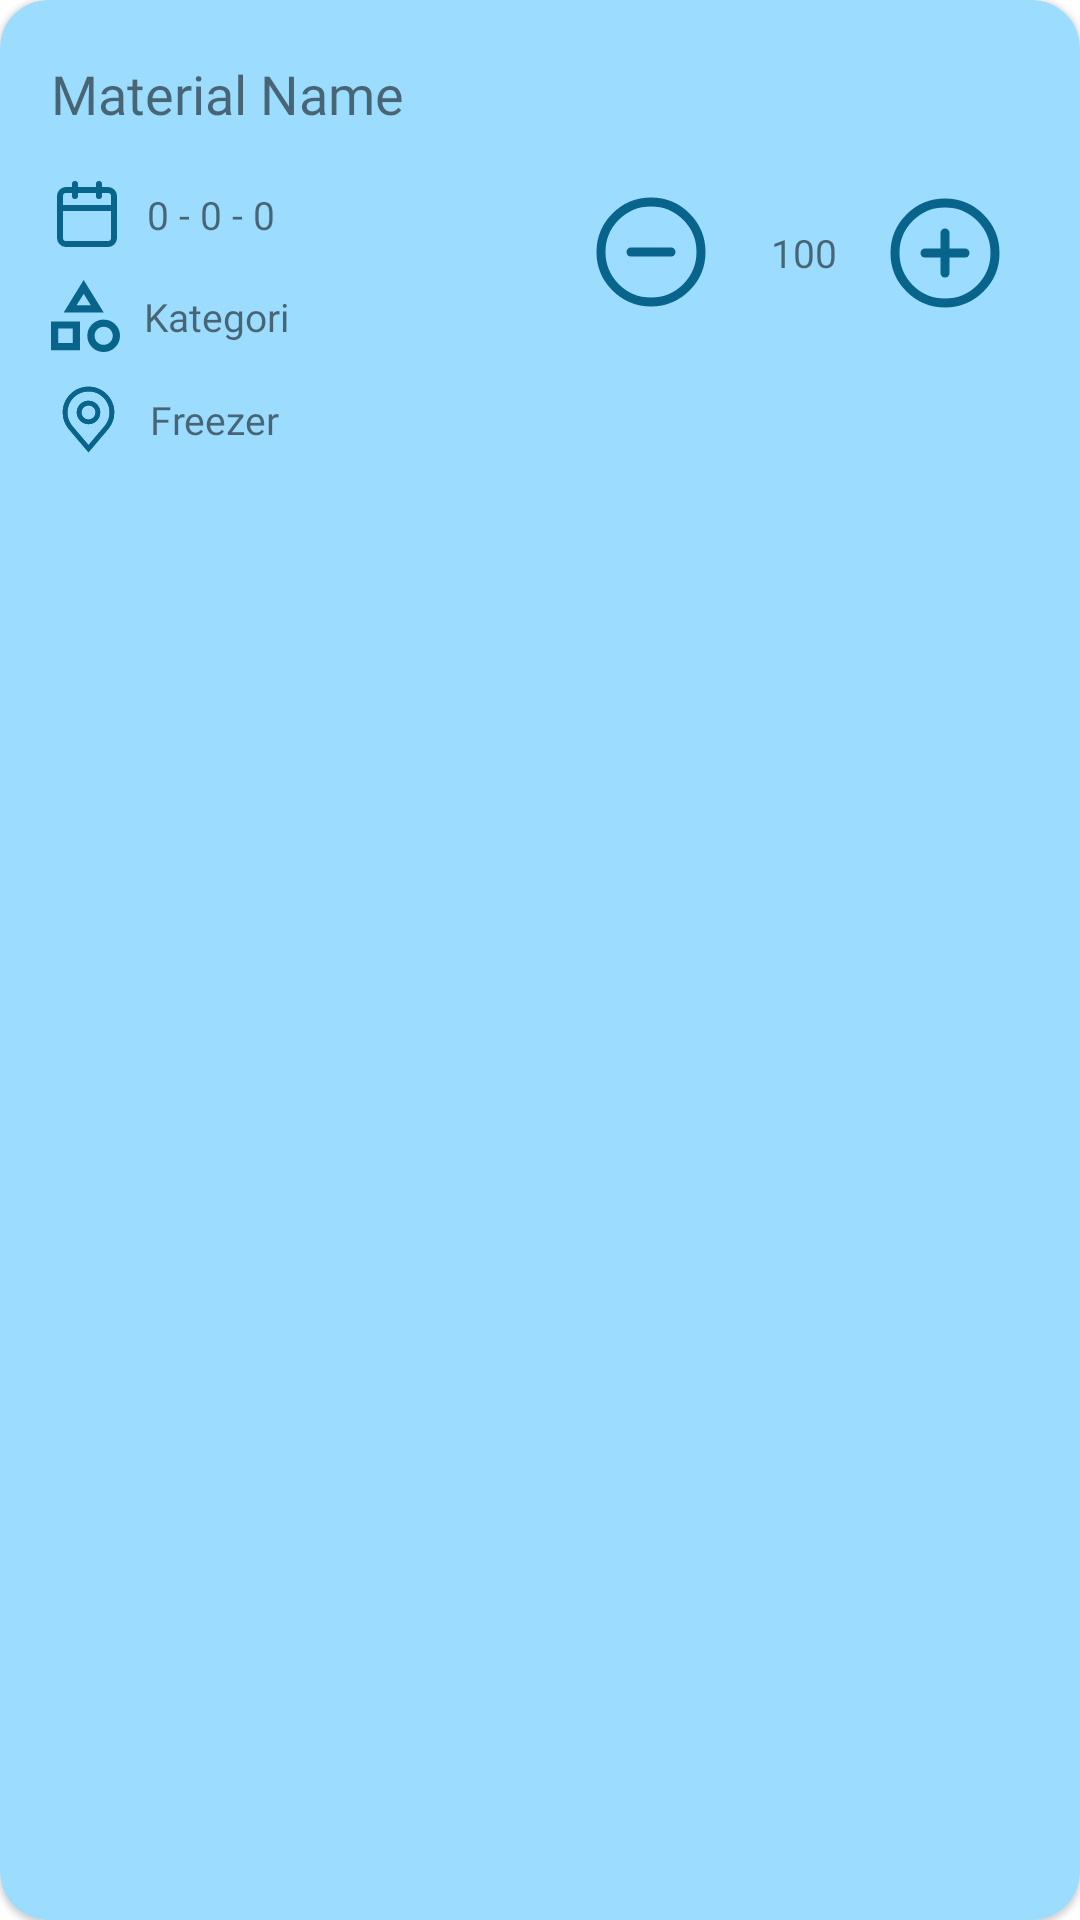

Icon click points for this 1080 x 1920 phone screenshot, format [x,y]:
calendar: [87,214]
category: [85,316]
location: [88,419]
minus: [651,252]
plus: [945,253]
